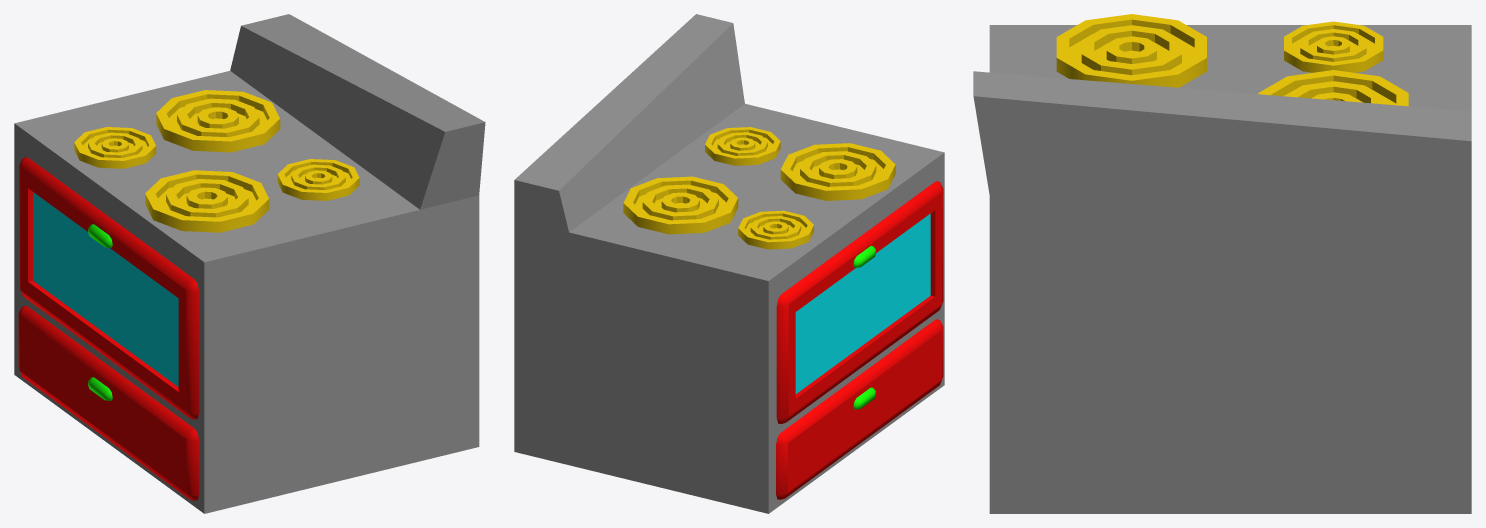
File: hoven.FBX
3 renders of one model, left to right at view 1: azimuth 30°, elevation 25°; view 2: azimuth 150°, elevation 25°; view 3: azimuth 270°, elevation 25°, orthographic. The views are drawn at different scales.
Parts seen in each view (by area): view 1: Box021; view 2: Box021; view 3: Box021.
Boxes of the visible parts, left/top/right/bottom form: Box021: left=14, top=14, right=485, bottom=513; Box021: left=514, top=14, right=944, bottom=513; Box021: left=973, top=14, right=1471, bottom=513.
Bounding box in the file's own units: 57.86 × 63.45 × 68.54.
